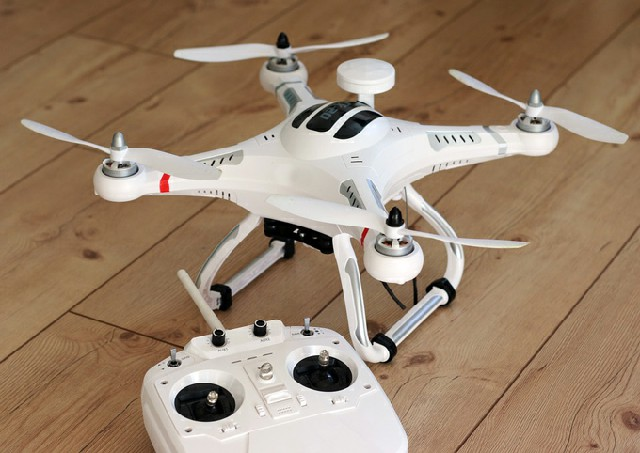maybay_khongnguoilai: (36, 36, 605, 357)
